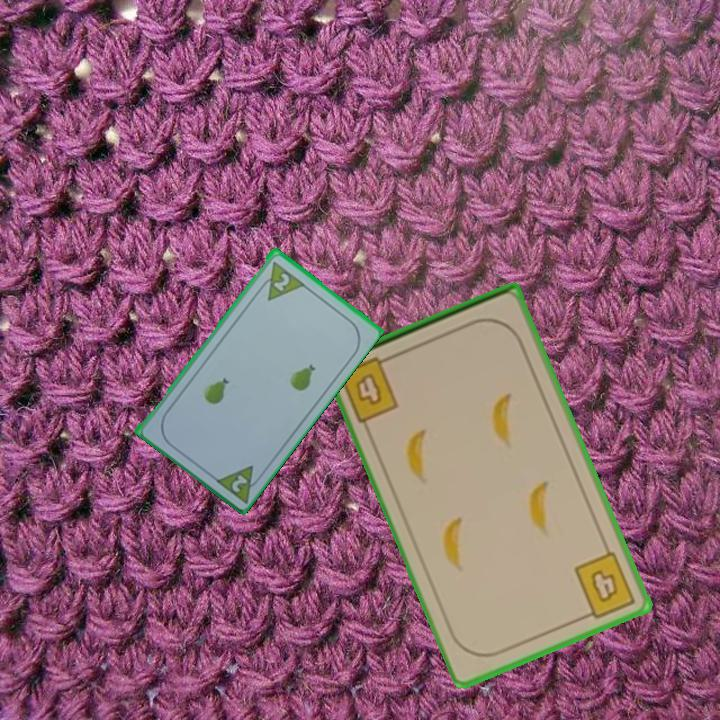2p: (253, 257, 306, 303), (228, 471, 250, 495)
4b: (570, 548, 639, 623), (336, 351, 402, 426)
